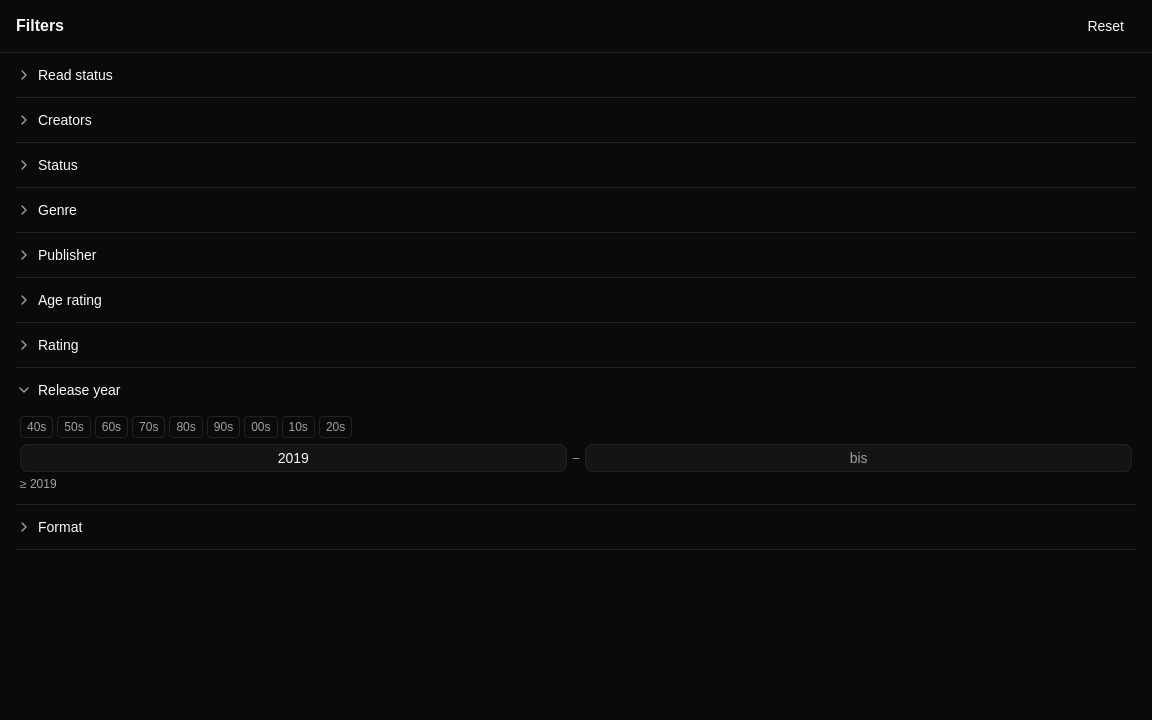
Test case: FilterPanelInner › converts a retyped lower bound into a point and widens via the to-field
The width and height of the screenshot is (1152, 720).
Auto-opened via the active yearMin — no header click.
Replace the text in the field named "Year from" with "2015" at (293, 458), box 20,444 -> 567,472
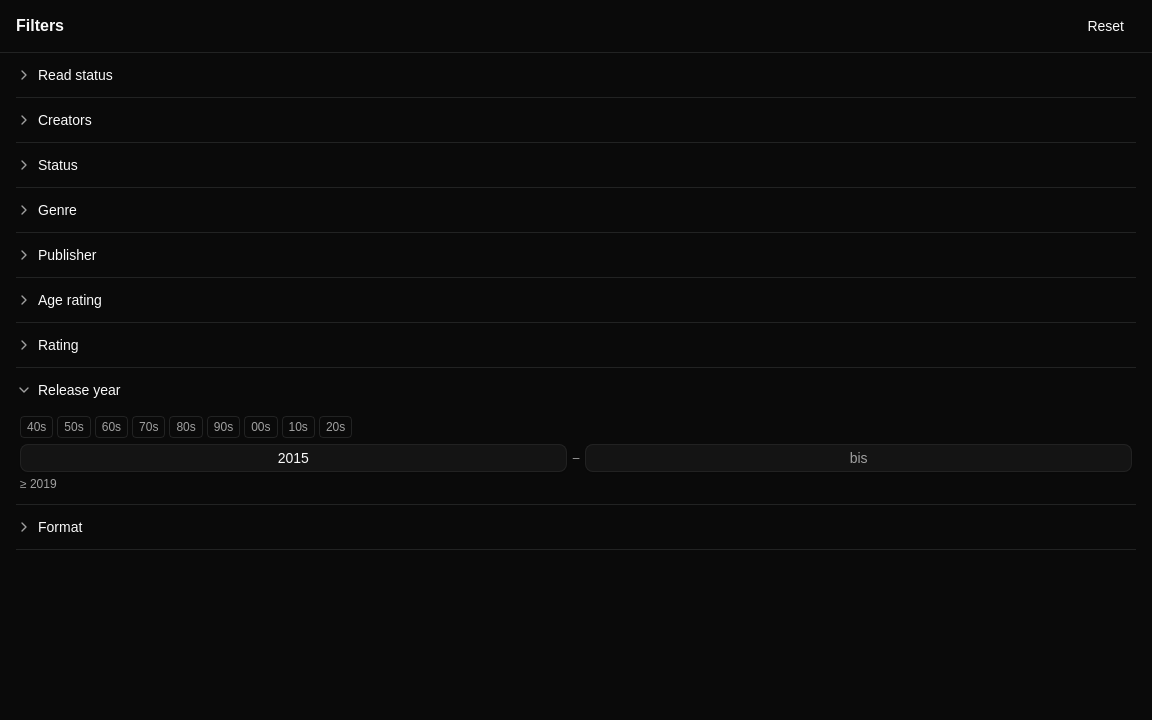
Press Enter in the field named "Year from", box 20,444 -> 567,472
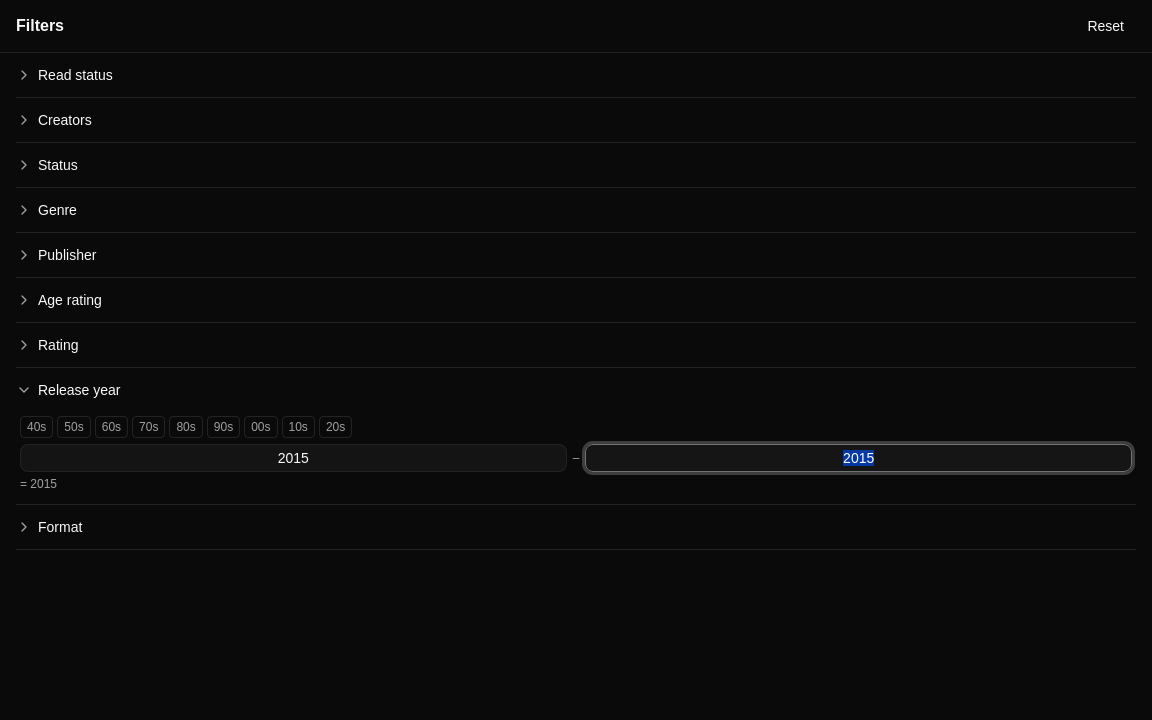
Clear the field named "Year to" at (859, 458), box 585,444 -> 1132,472
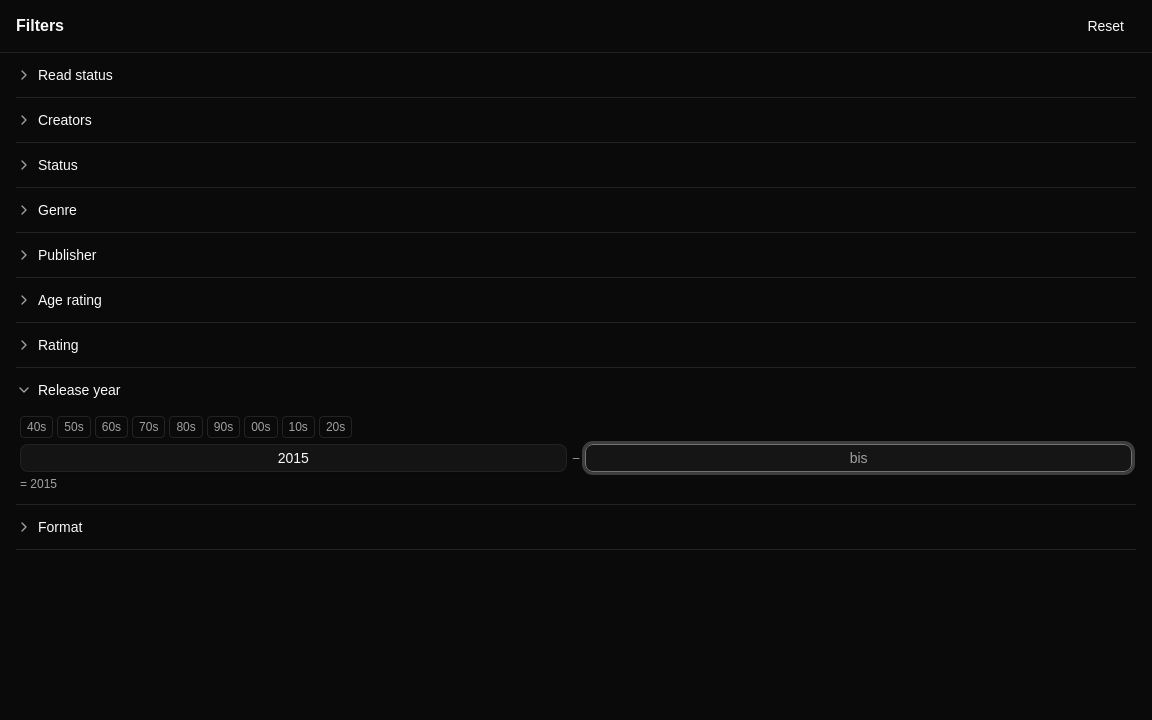
Press Enter in the field named "Year to", box 585,444 -> 1132,472
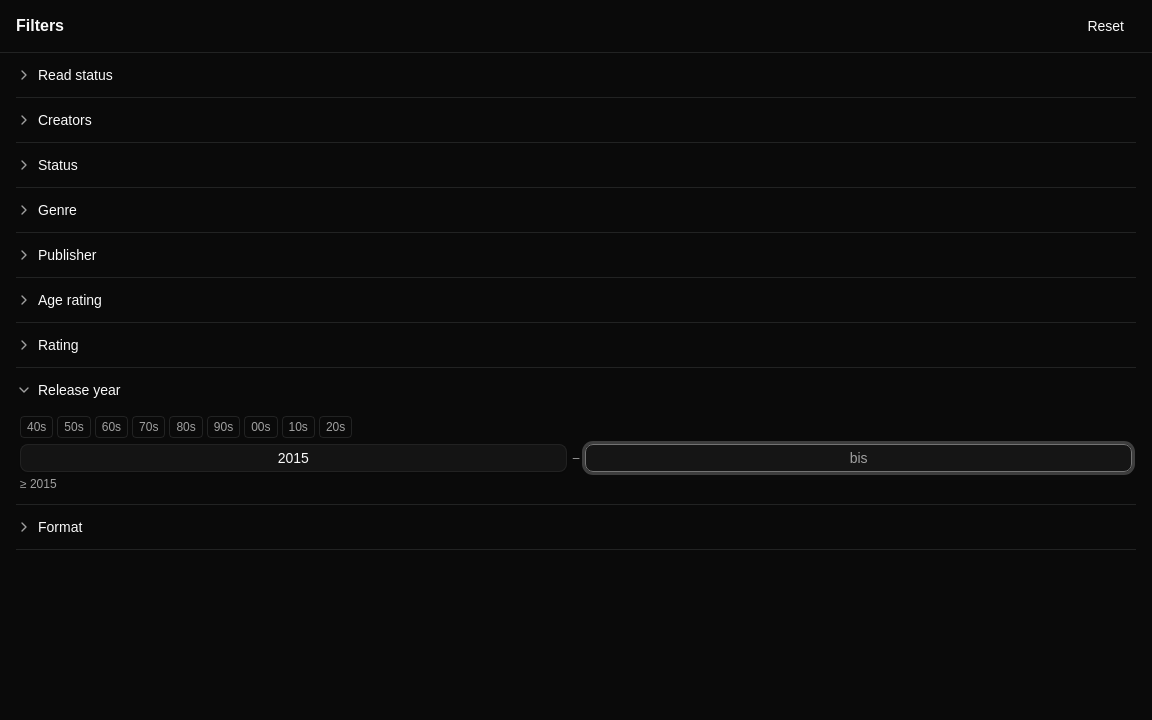
expect the text "≥ 2015" is shown: met, box 20,477 -> 57,491
